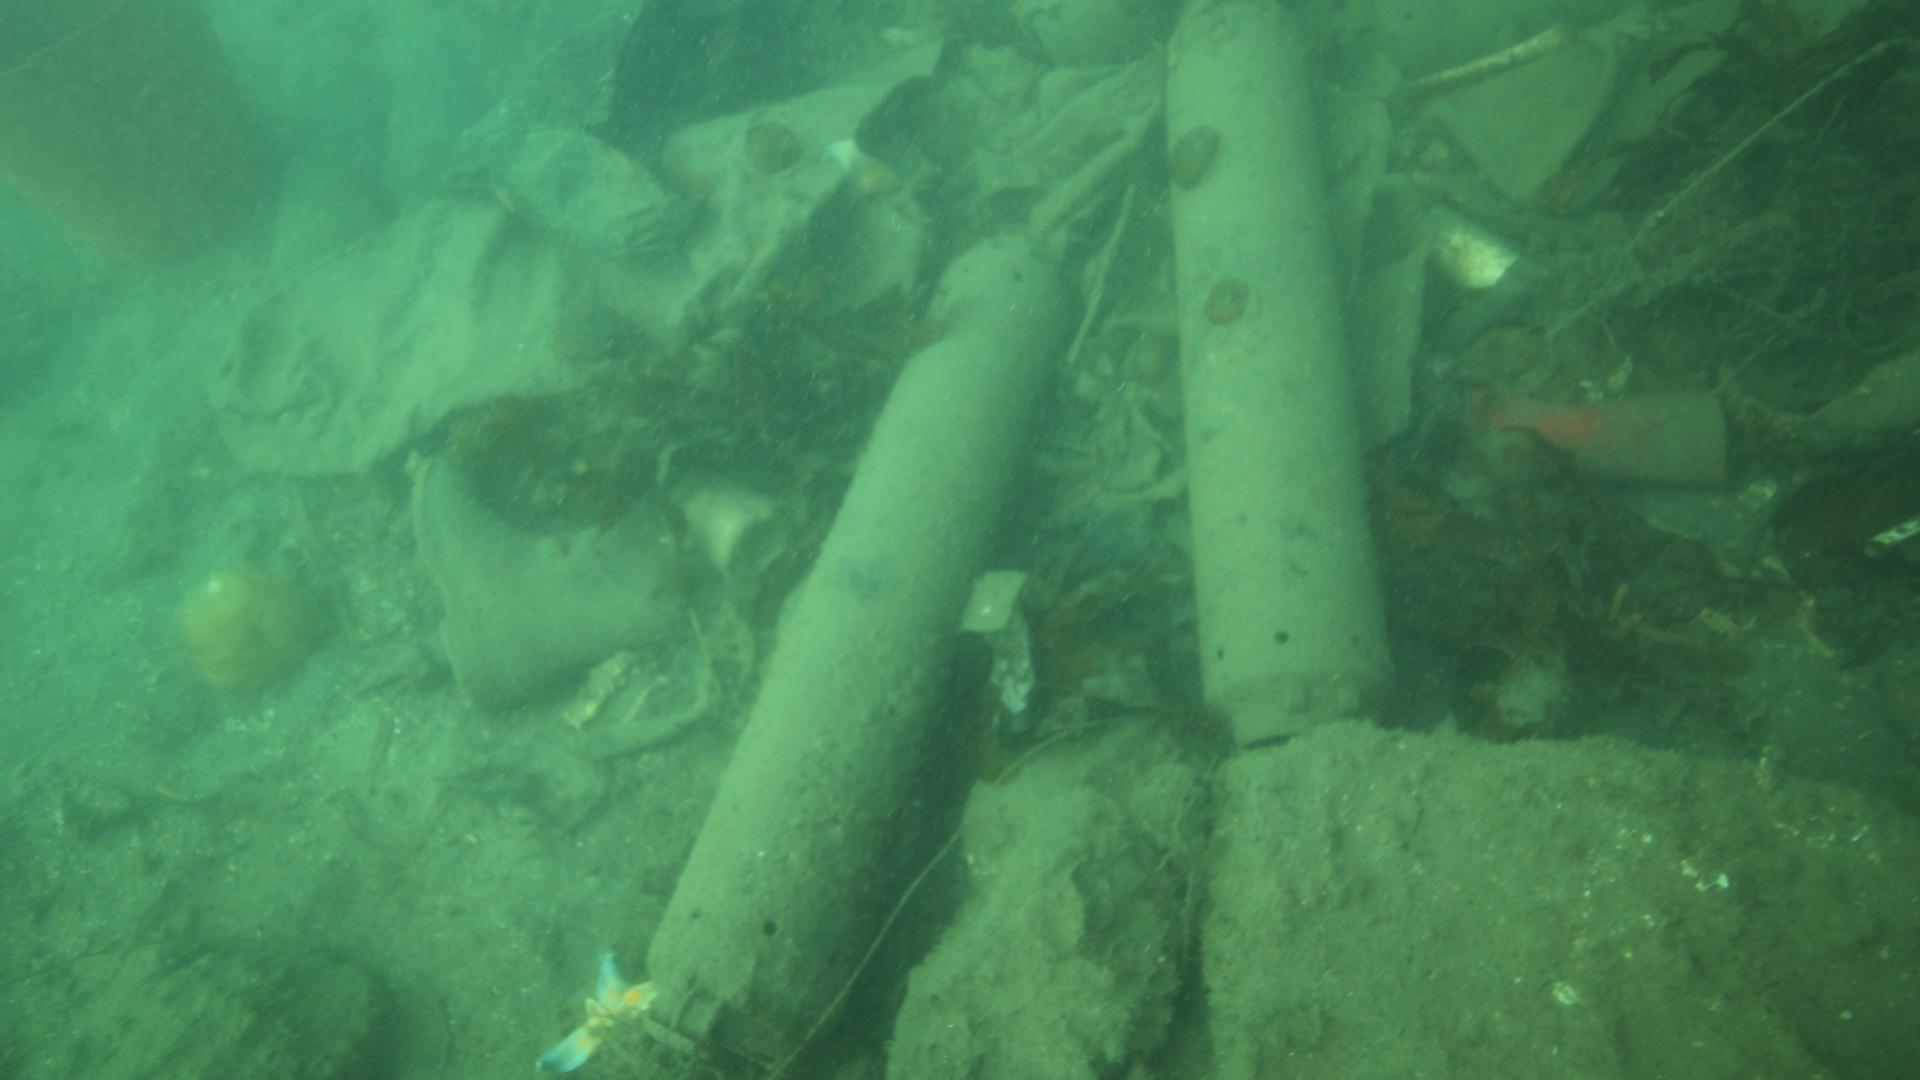eel fish trap: (630, 229, 1079, 1080), (1160, 0, 1398, 746)
